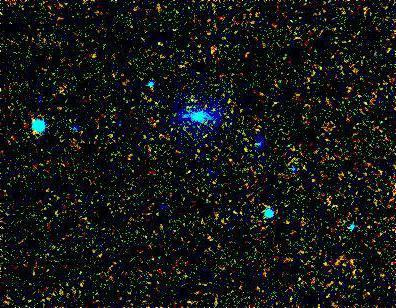star: (170, 100, 200, 130)
